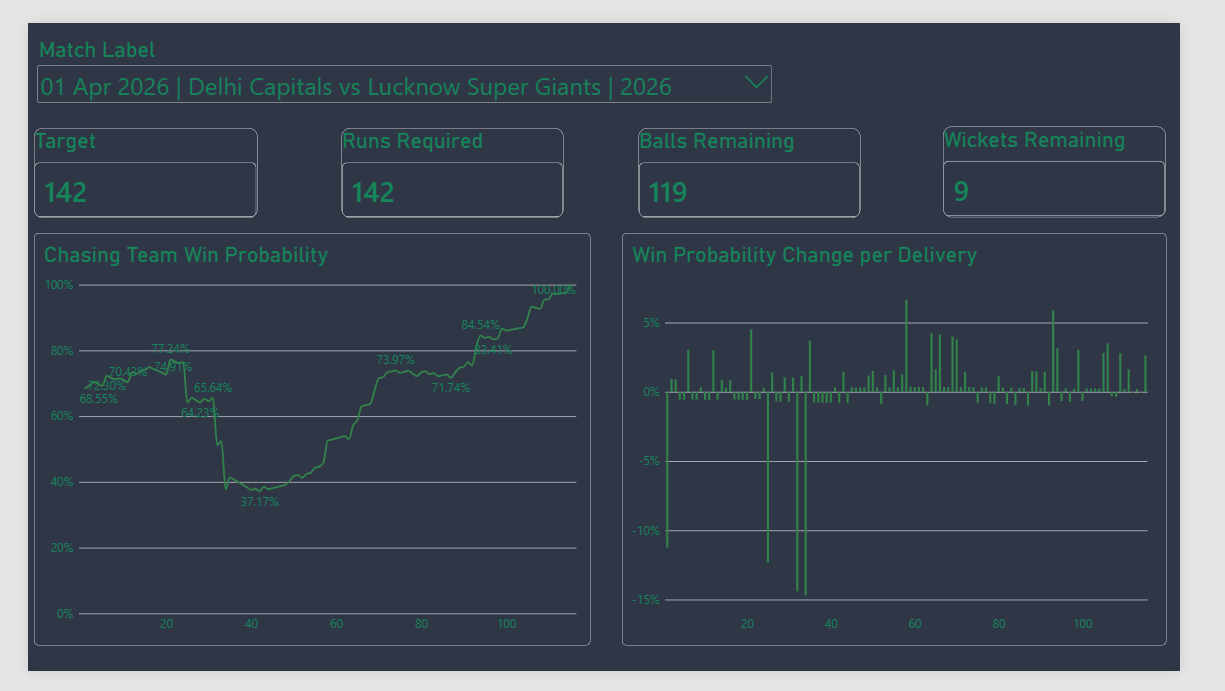

The page's visual inventory and layout, read from the dashboard file:
{"tool":"powerbi","page":{"name":"Win Probability","canvas":[1920,1080],"ordinal":1},"visuals":[{"type":"slicer","title":"Match Label","fields":{"Values":["Match.Match Label"]},"box":[10,22.5,1235,125],"z":0},{"type":"lineChart","title":"Chasing Team Win Probability","fields":{"Category":["second_innings.delivery_no"],"Y":["Sum(second_innings.win_prob)"]},"box":[10,350,927.5,687.5],"z":1000},{"type":"clusteredColumnChart","title":"Win Probability Change per Delivery","fields":{"Category":["second_innings.delivery_no"],"Y":["Sum(second_innings.wpa)"]},"box":[990,350,907.5,687.5],"z":2000},{"type":"cardVisual","title":"Target","fields":{"Data":["Max(second_innings.target)"]},"box":[10,175,372.5,150],"z":3000},{"type":"cardVisual","title":"Runs Required","fields":{"Data":["Max(second_innings.runs_left)"]},"box":[522.5,175,370,150],"z":4000},{"type":"cardVisual","title":"Balls Remaining","fields":{"Data":["Max(second_innings.balls_left)"]},"box":[1017.5,175,370,150],"z":5000},{"type":"cardVisual","title":"Wickets Remaining","fields":{"Data":["Max(second_innings.wickets_left)"]},"box":[1525,172.5,371.4,151.4],"z":6000}]}

Visuals, with their boxes in screenshot pixels (x1, y1, x2, y2), scaled from the page's 1920x1080 canvas onto the 1225x691 screenshot:
"Match Label" slicer: crop(6, 14, 794, 94)
"Chasing Team Win Probability" lineChart: crop(6, 224, 598, 664)
"Win Probability Change per Delivery" clusteredColumnChart: crop(632, 224, 1211, 664)
"Target" cardVisual: crop(6, 112, 244, 208)
"Runs Required" cardVisual: crop(333, 112, 569, 208)
"Balls Remaining" cardVisual: crop(649, 112, 885, 208)
"Wickets Remaining" cardVisual: crop(973, 110, 1210, 207)
